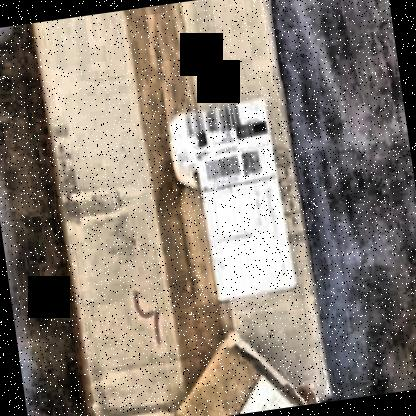no defect parcel: (11, 0, 340, 416)
